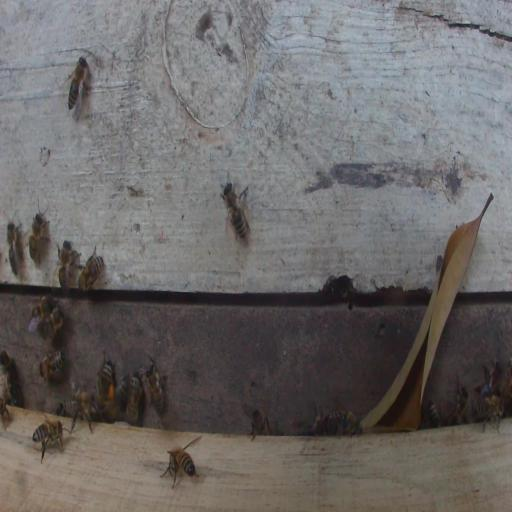bee: (222, 184, 250, 241), (163, 445, 198, 490), (66, 57, 90, 116), (32, 419, 64, 463), (67, 388, 97, 432), (77, 245, 104, 292), (29, 205, 50, 264), (0, 349, 22, 404), (146, 360, 167, 416), (471, 395, 504, 430), (56, 239, 77, 291), (96, 359, 114, 413), (324, 410, 361, 436), (446, 383, 468, 424), (29, 296, 53, 333), (7, 219, 22, 276), (478, 360, 501, 397), (126, 374, 143, 424), (41, 303, 64, 339), (39, 350, 65, 381), (297, 408, 325, 435), (249, 408, 272, 439), (115, 374, 128, 408), (0, 392, 10, 431), (427, 401, 440, 428), (505, 355, 512, 399)
